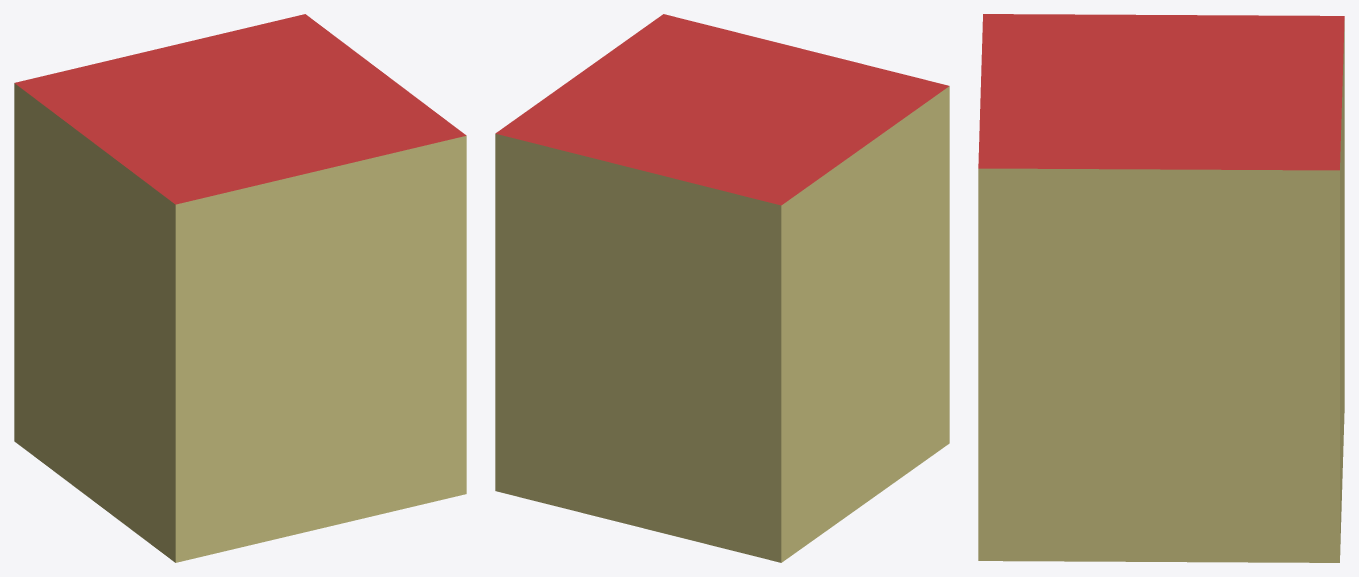
3 renders of one model, left to right at view 1: azimuth 30°, elevation 25°; view 2: azimuth 150°, elevation 25°; view 3: azimuth 270°, elevation 25°, orthographic. The views are drawn at different scales.
Size of the model in its own units: 5.24 by 5.19 by 6.13.
